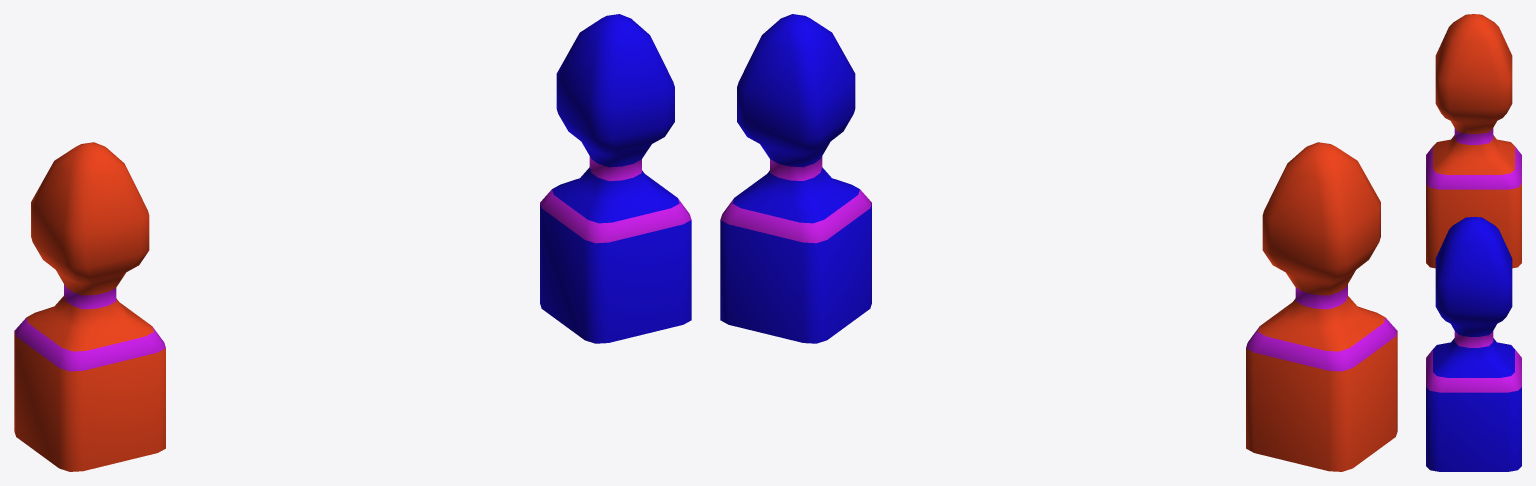
The model's file is Chips.fbx.
3 renders of one model, left to right at view 1: azimuth 30°, elevation 25°; view 2: azimuth 150°, elevation 25°; view 3: azimuth 270°, elevation 25°, orthographic. The views are drawn at different scales.
Parts seen in each view (by area): view 1: ChipBlue, ChipRed; view 2: ChipBlue, ChipRed; view 3: ChipBlue, ChipRed.
Boxes of the visible parts, x1=… form: ChipBlue: x1=540, y1=14, x2=691, y2=343; ChipRed: x1=14, y1=142, x2=165, y2=471; ChipBlue: x1=720, y1=14, x2=871, y2=343; ChipRed: x1=1246, y1=142, x2=1397, y2=471; ChipBlue: x1=1426, y1=217, x2=1521, y2=471; ChipRed: x1=1426, y1=14, x2=1521, y2=268.
Size of the model in its own units: 600 by 269 by 100.
